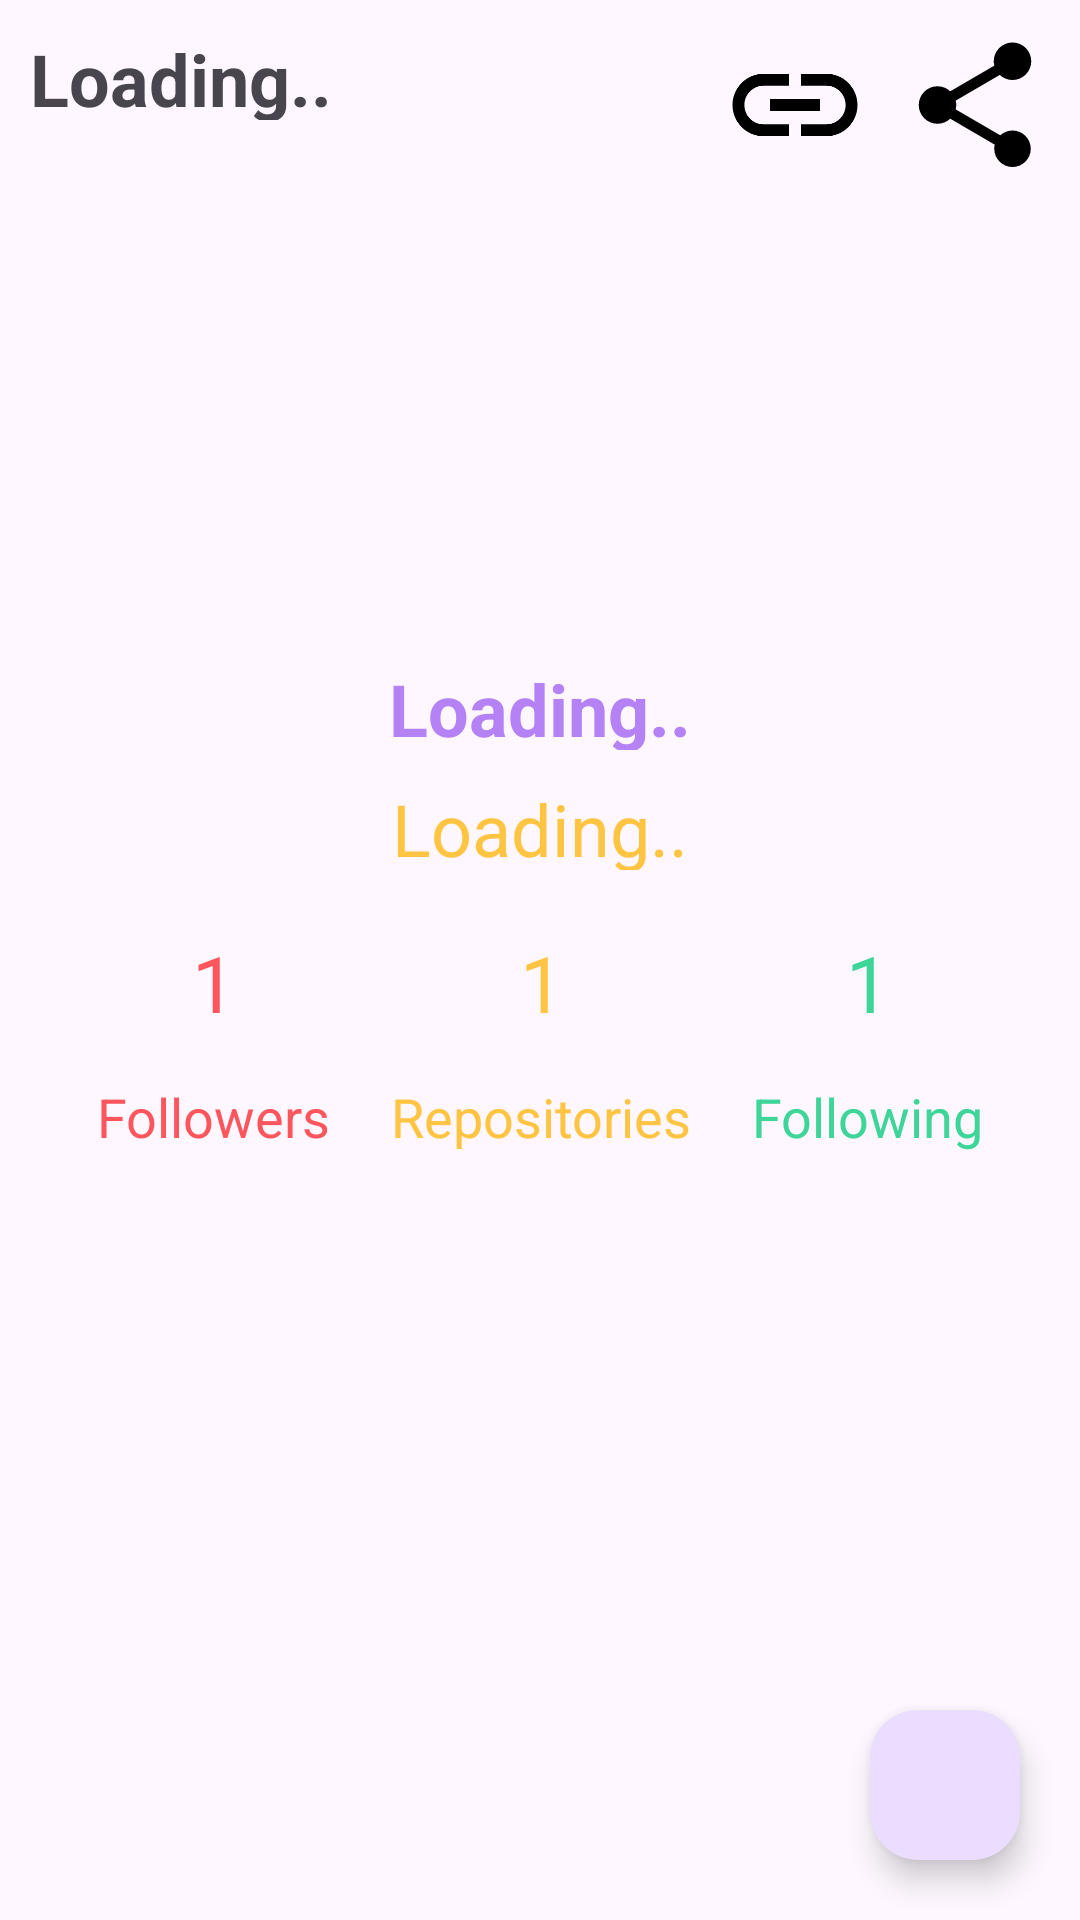

Icon bounding boxes for this 1080*1920 phone screenshot, format (left=x1, top=y1, right=x2, bottom=y2):
link: (left=732, top=74, right=858, bottom=136)
share: (left=918, top=42, right=1032, bottom=167)
